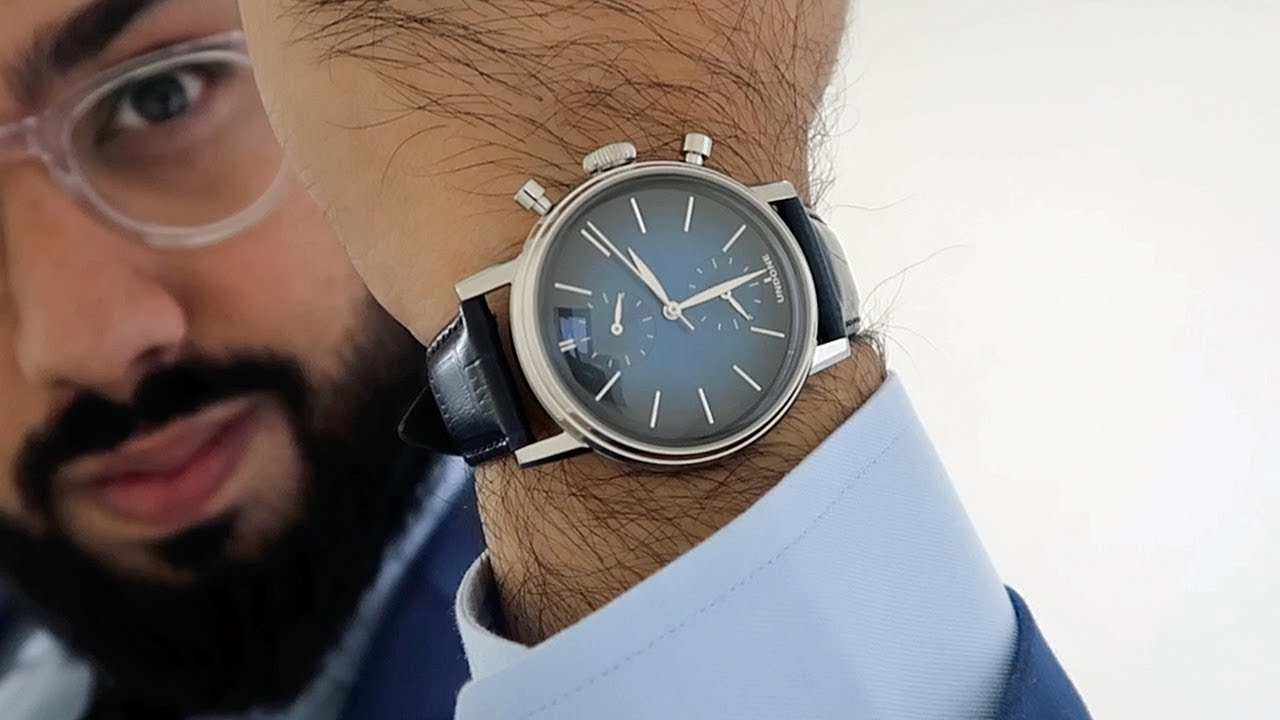clock: (538, 173, 812, 456)
